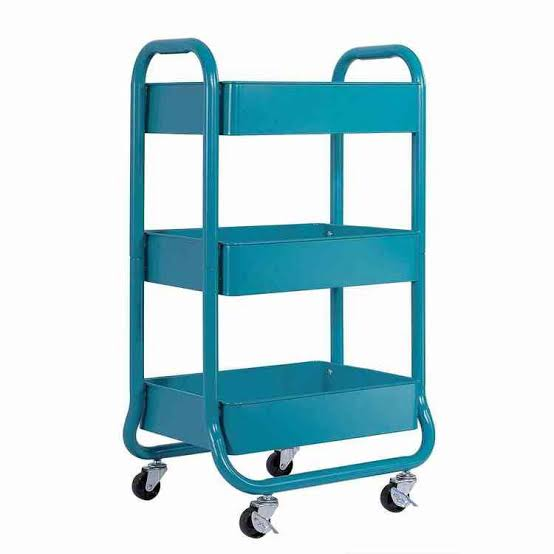Carts: (121, 39, 437, 540)
